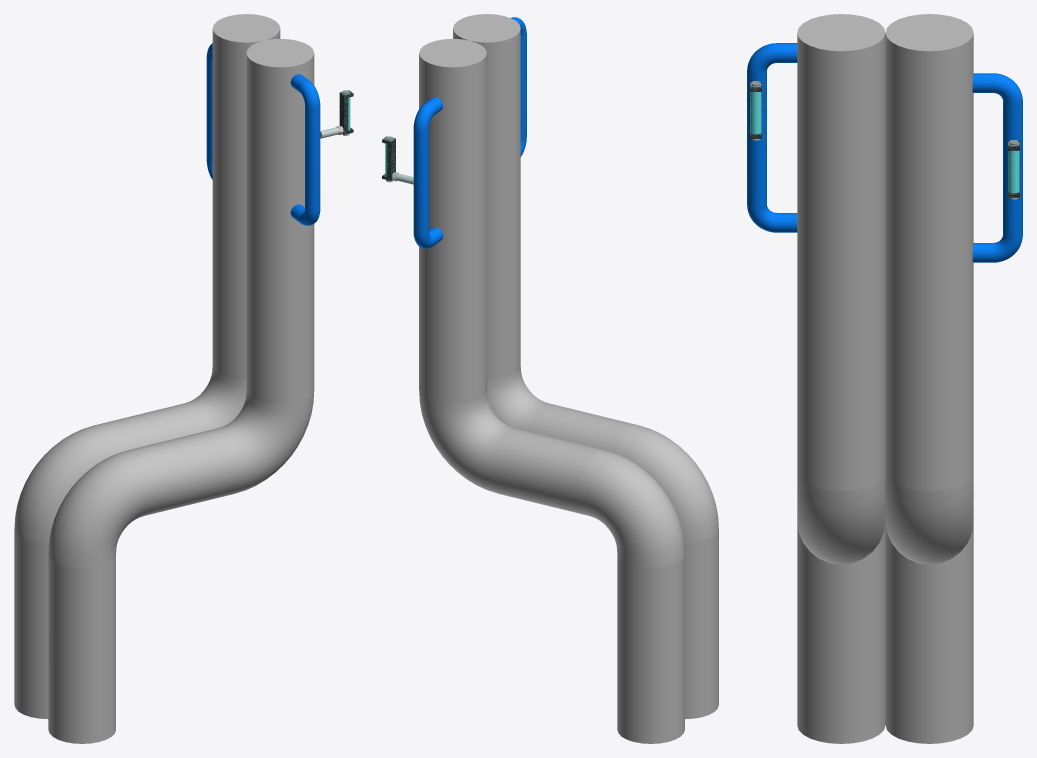
File: PipeL.dae
The picture shows the model from 3 angles, left to right: view 1: azimuth 30°, elevation 25°; view 2: azimuth 150°, elevation 25°; view 3: azimuth 270°, elevation 25°; orthographic projection. The views are drawn at different scales.
Parts seen in each view (by area): view 1: group_0 (×2), group_2, group_1; view 2: group_0 (×2), group_1, group_2; view 3: group_0 (×2), group_2, group_1, flow_meter_1 (×2).
Part boxes in pixels (x1,y1,x2,y2): group_0 (×2): [14, 14, 314, 743]; group_2: [290, 74, 320, 225]; group_1: [206, 43, 212, 179]; group_0 (×2): [419, 14, 718, 743]; group_1: [413, 97, 443, 248]; group_2: [511, 17, 526, 156]; group_0 (×2): [797, 14, 973, 743]; group_2: [747, 43, 797, 232]; group_1: [972, 73, 1022, 262]; flow_meter_1 (×2): [750, 92, 1019, 193].
Bounding box in the file's own units: 58.81 × 40.58 × 133.
